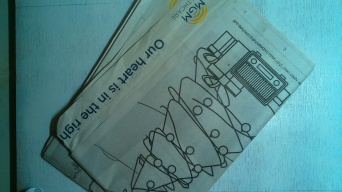p: (50, 1, 314, 188)
